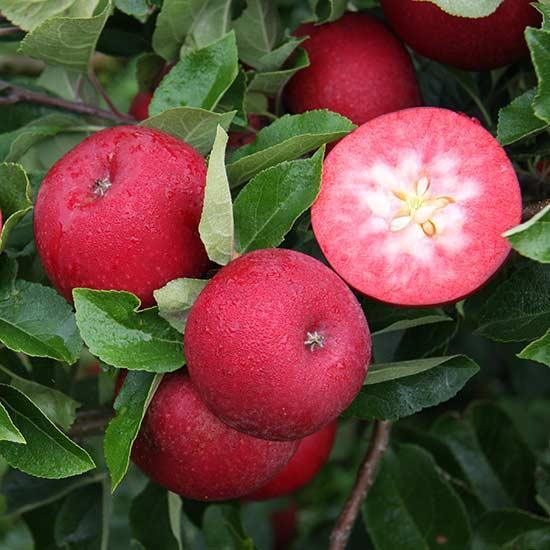apple: (183, 245, 370, 439), (32, 130, 214, 321), (283, 17, 419, 128)
